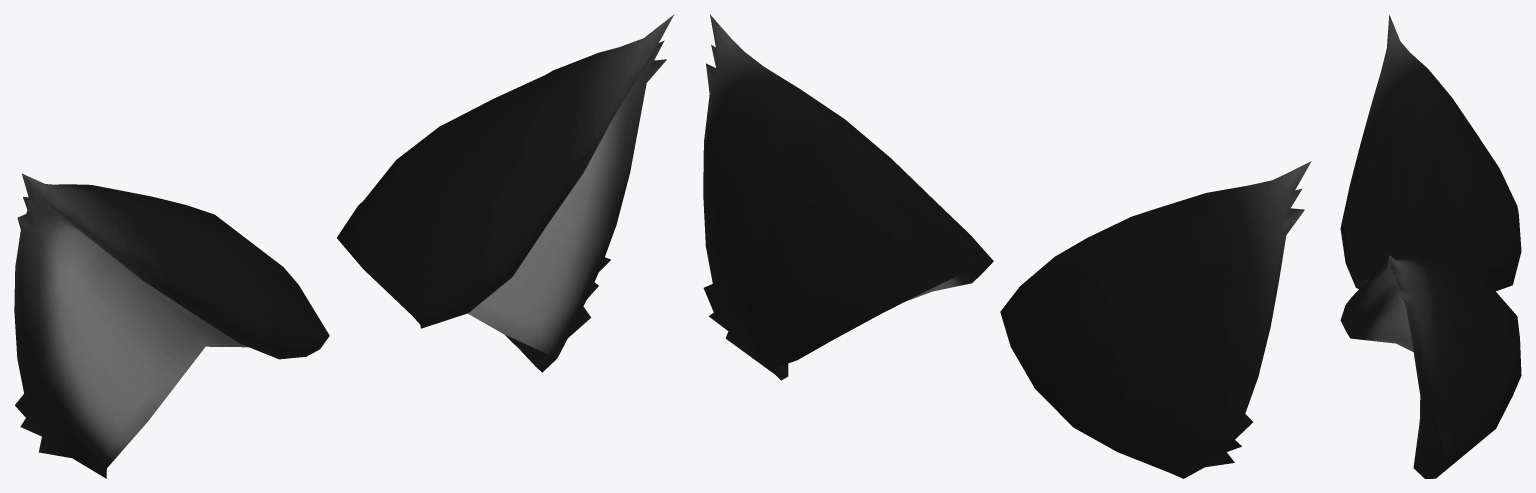
The model's file is cat_ears_-_clothing.glb.
The picture shows the model from 3 angles, left to right: view 1: azimuth 30°, elevation 25°; view 2: azimuth 150°, elevation 25°; view 3: azimuth 270°, elevation 25°; orthographic projection. The views are drawn at different scales.
Visible parts, largest first — view 1: Cat Ears; view 2: Cat Ears; view 3: Cat Ears.
Part boxes in pixels (left/top/right/bottom): Cat Ears: left=14, top=14, right=674, bottom=478; Cat Ears: left=703, top=14, right=1311, bottom=478; Cat Ears: left=1340, top=14, right=1521, bottom=478.
Size of the model in its own units: 0.2652 by 0.1356 by 0.0842.
Materials: 1 (1 with a texture image).
